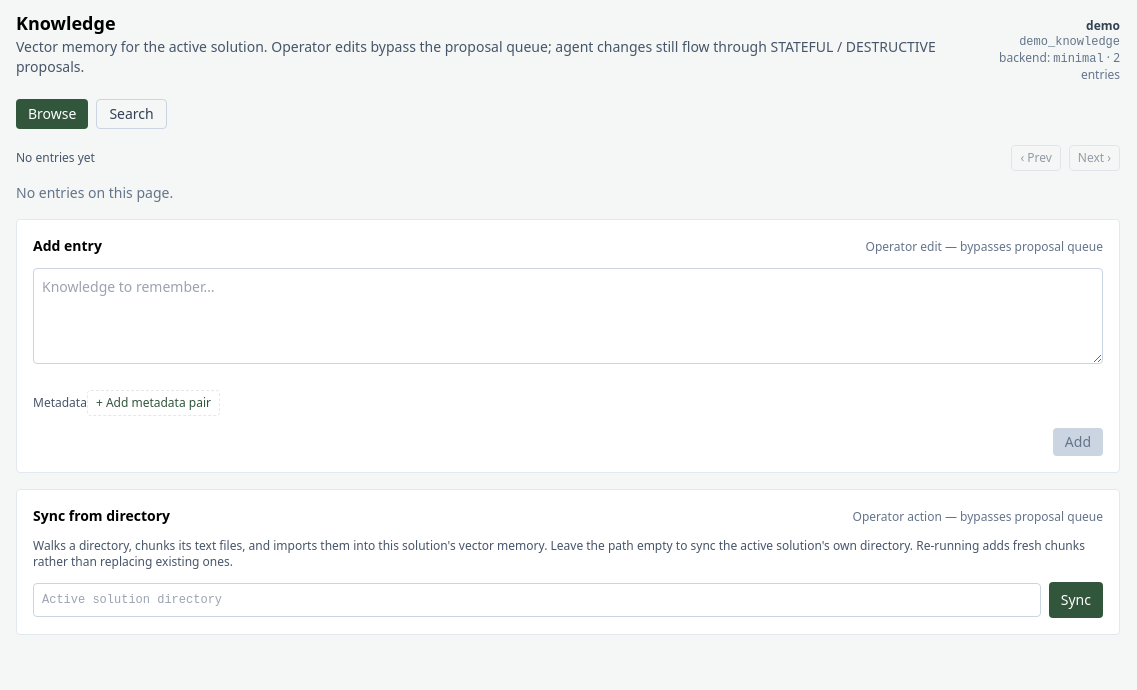
it: Knowledge page › shows minimal banner on the search tab when backend is minimal
Check: the text "backend: minimal · 2 entries" is shown, box top-left (999, 49), bottom-right (1120, 83)
What coordinates should you click on to do the following:
click the button "Search"
I would click on:
 (132, 114)
Its box is top-left (96, 99), bottom-right (167, 129).
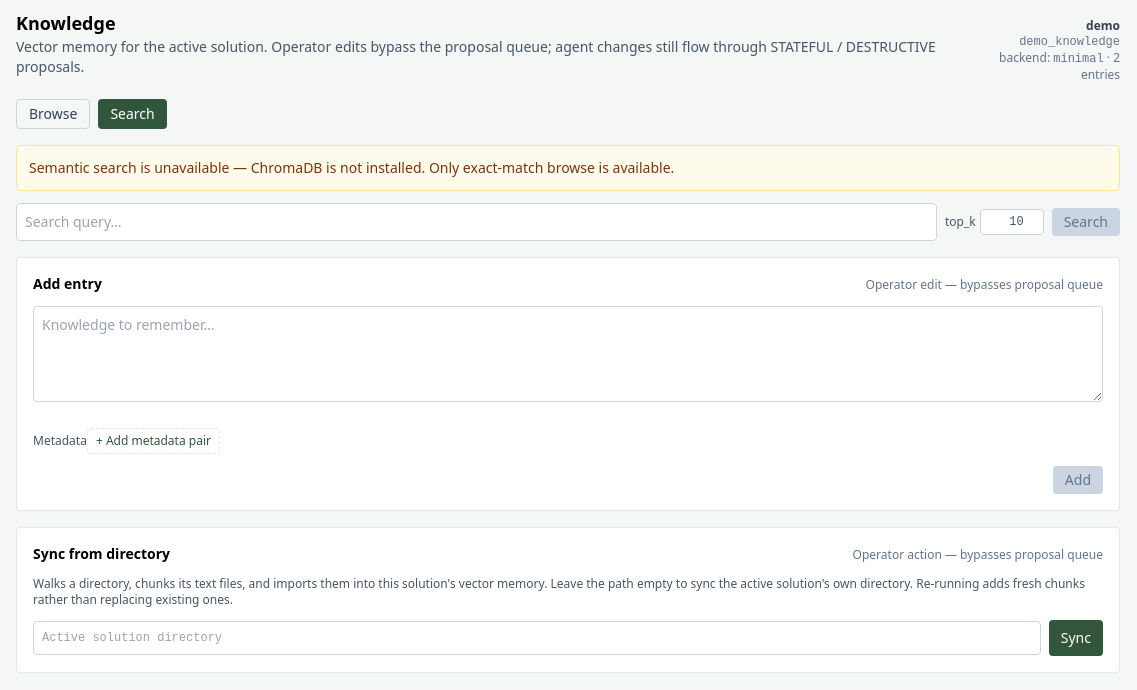
Check: the text "Semantic search is unavailable" is shown, box top-left (29, 158), bottom-right (674, 177)
